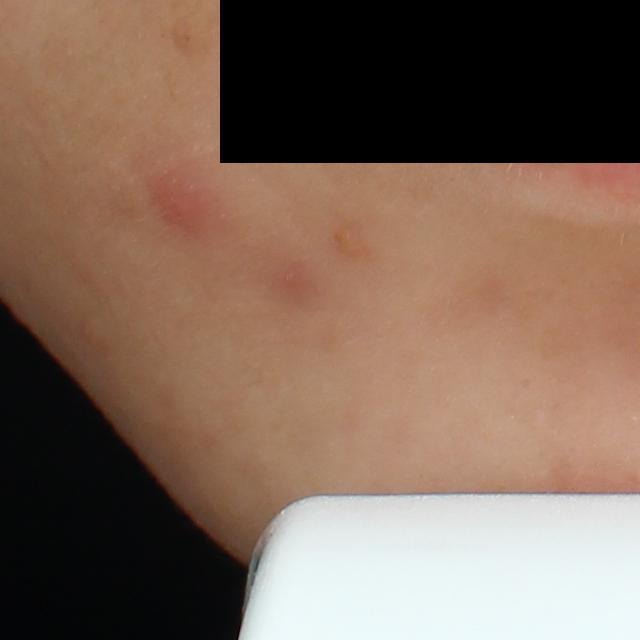papule: (143, 162, 222, 239)
